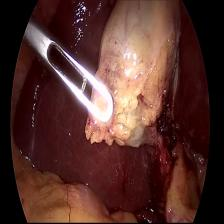Grasper: (20, 7, 122, 135)
